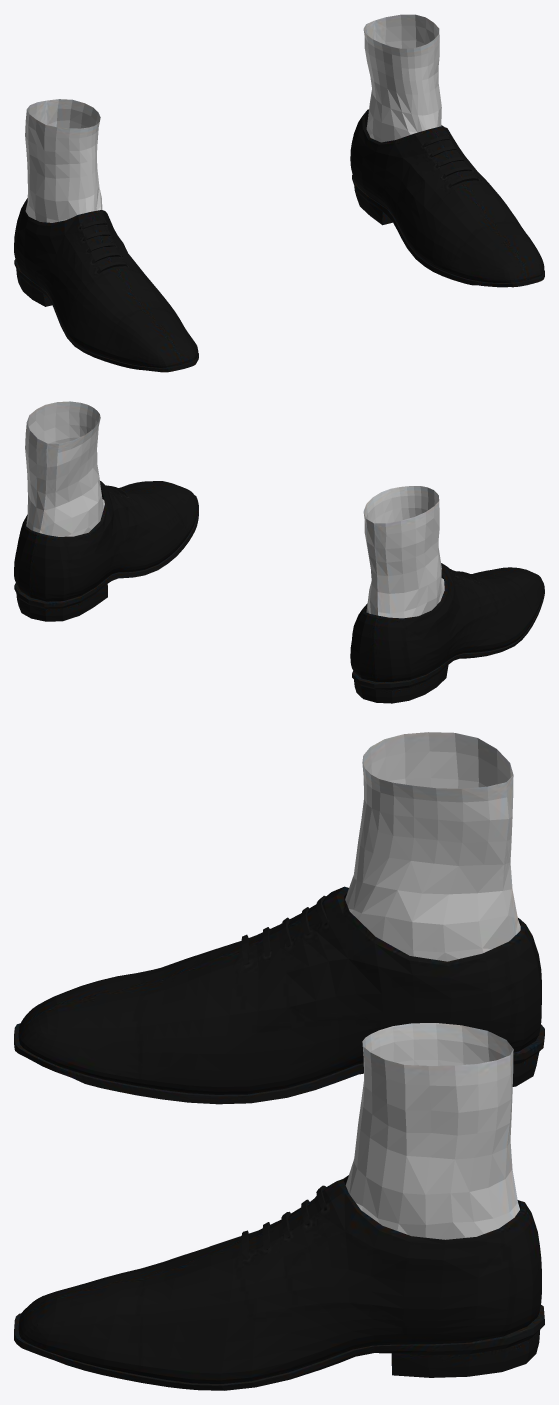
Rendered from mhw_mindfront_shoes_oxford_male.glb.
The picture shows the model from 3 angles, top to bottom: view 1: azimuth 30°, elevation 25°; view 2: azimuth 150°, elevation 25°; view 3: azimuth 270°, elevation 25°; orthographic projection. The views are drawn at different scales.
Parts seen in each view (by area): view 1: mhw_mindfront_shoes_oxford_male; view 2: mhw_mindfront_shoes_oxford_male; view 3: mhw_mindfront_shoes_oxford_male.
Boxes of the visible parts, x1,y1,x2,y2 form: mhw_mindfront_shoes_oxford_male: (14, 14, 544, 372); mhw_mindfront_shoes_oxford_male: (14, 401, 544, 703); mhw_mindfront_shoes_oxford_male: (14, 732, 544, 1390).
Size of the model in its own units: 0.5377 by 0.2113 by 0.3248.
1 material, 1 textured.
